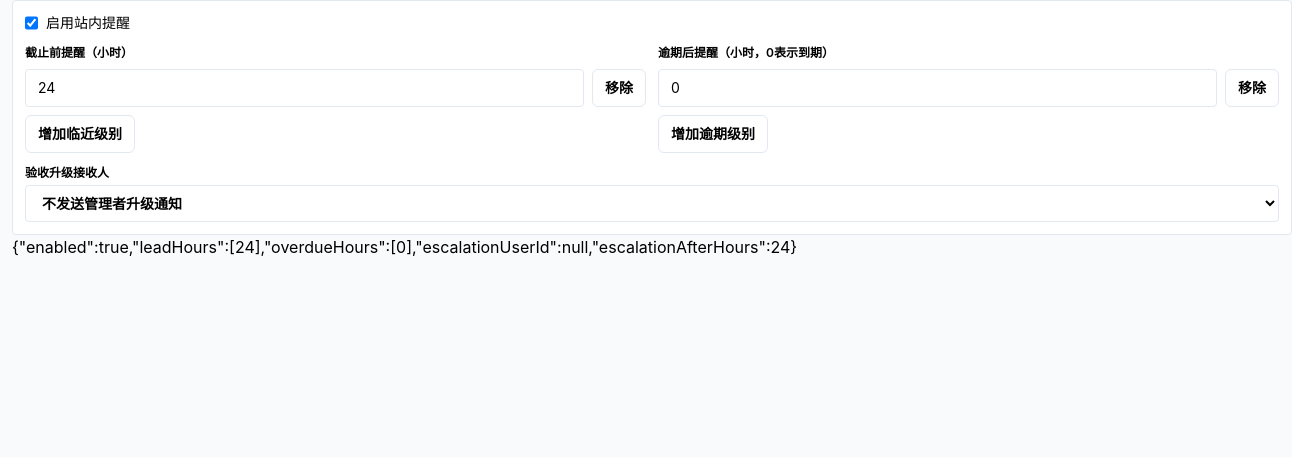
Test: reminder settings form › bounds the number of configured tiers in the UI
The width and height of the screenshot is (1292, 457).
Step 1. Click the button "增加临近级别" → (80, 134), box [25,115,135,153]
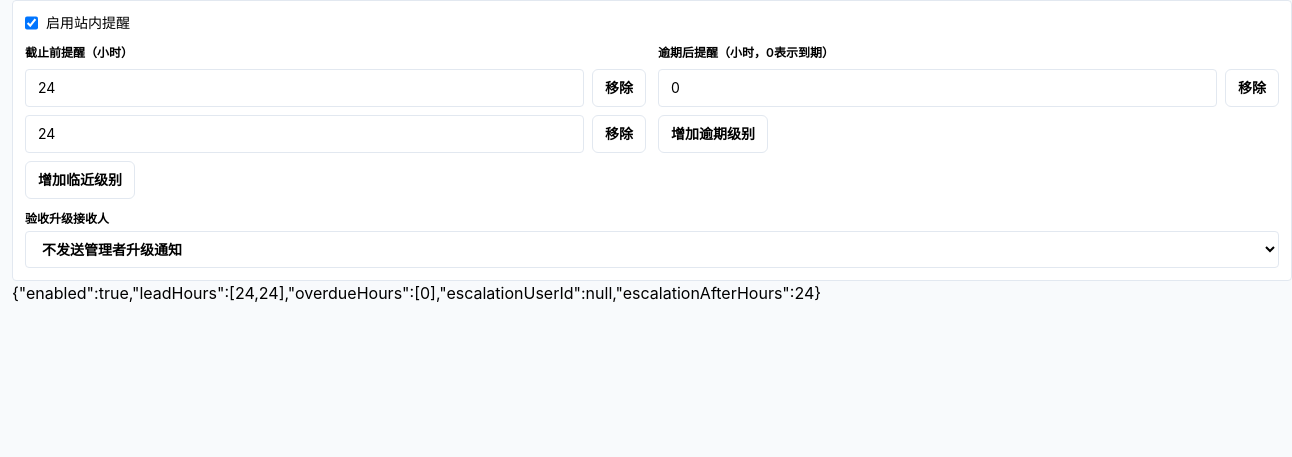
Step 2. Click the button "增加临近级别" → (80, 180), box [25,161,135,199]
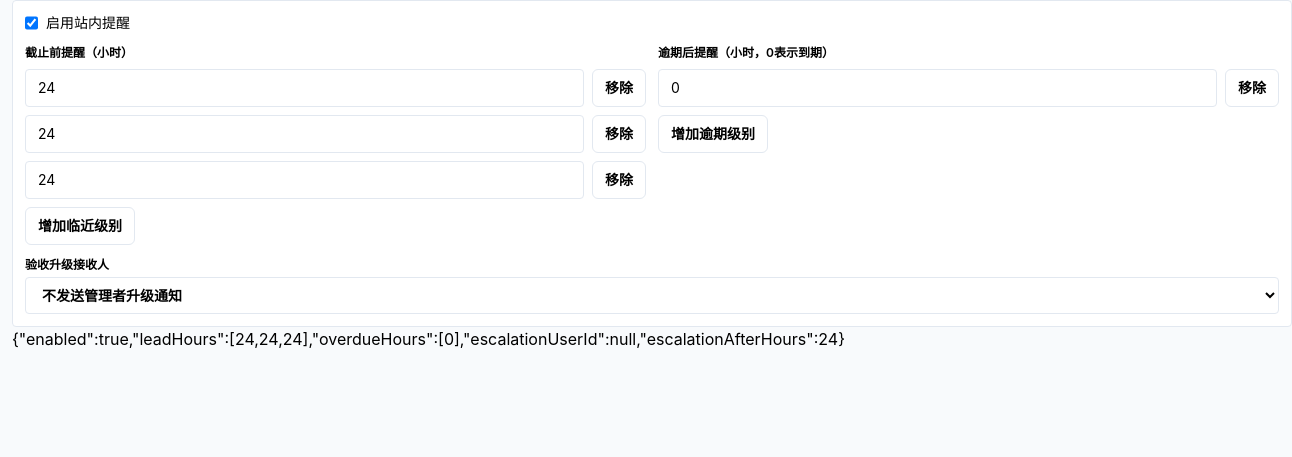
Step 3. Click the button "增加临近级别" → (80, 226), box [25,207,135,245]
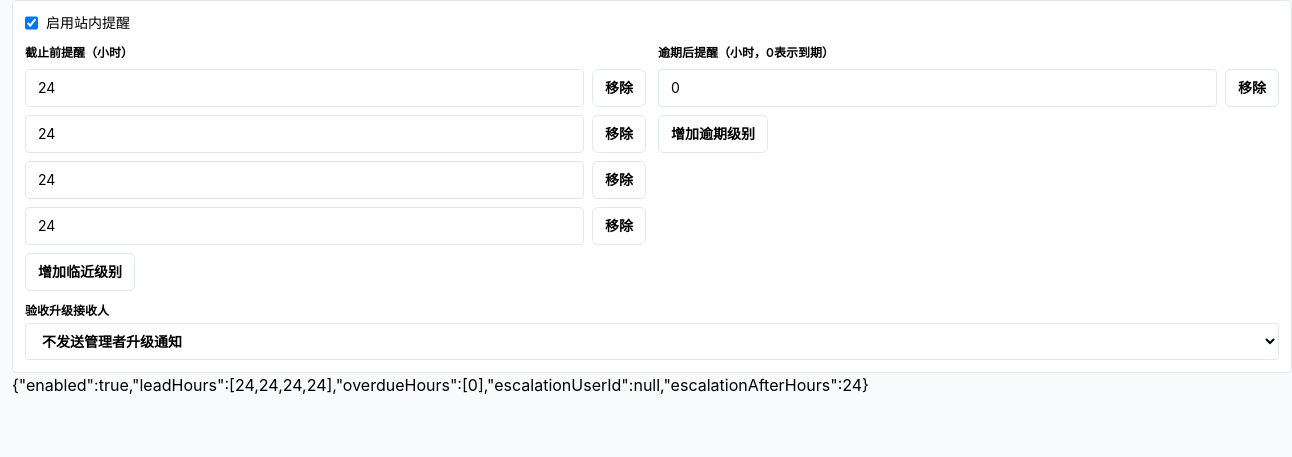
Step 4. Click the button "增加临近级别" → (80, 272), box [25,253,135,291]
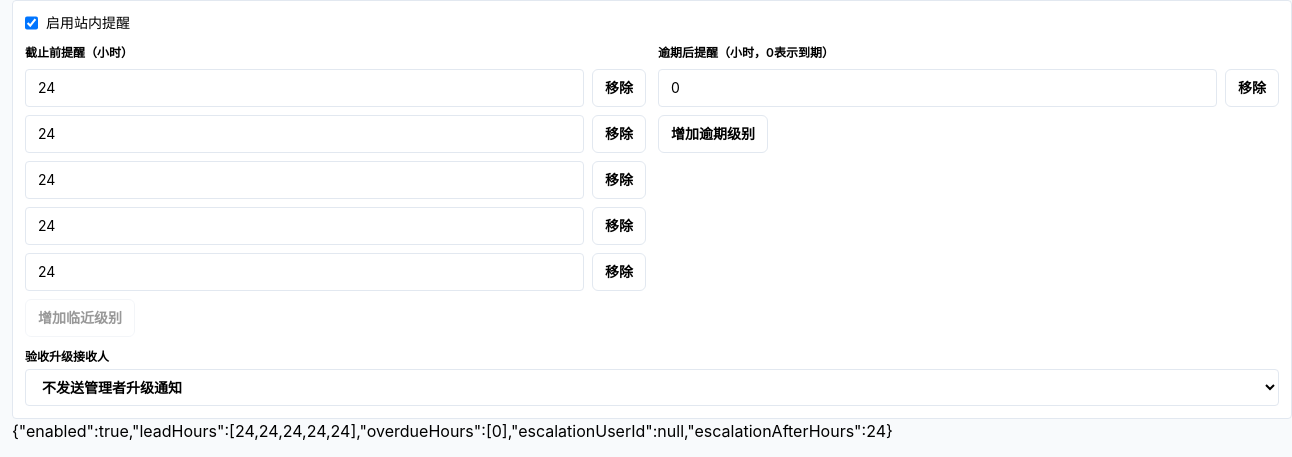
Expected: the button "增加临近级别" is disabled, [25,299,135,337]
